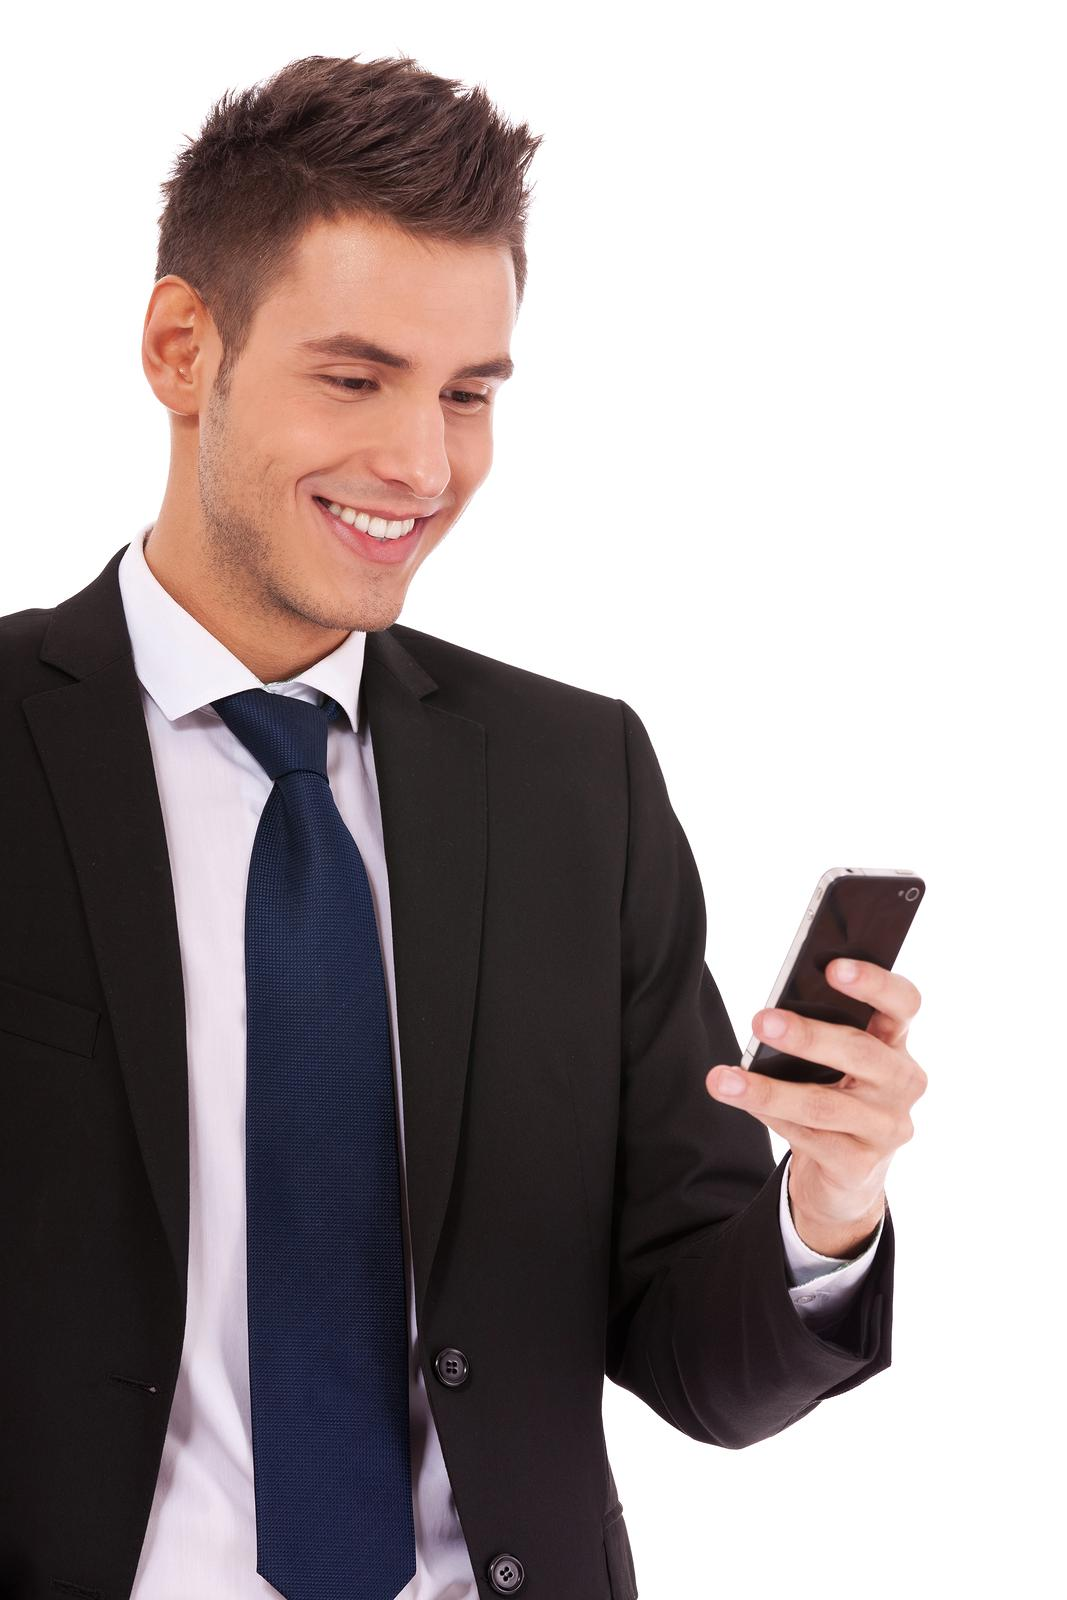smartphone: (745, 864, 926, 1090)
